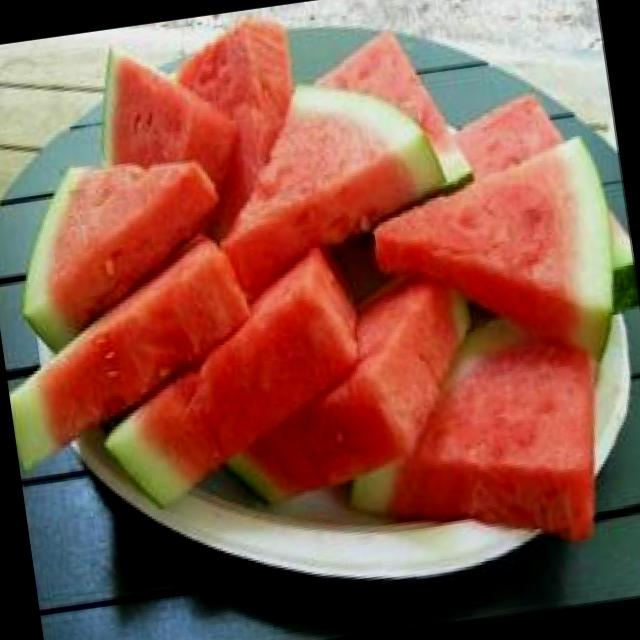dua hau: (109, 251, 356, 499), (345, 320, 593, 533), (374, 139, 615, 354), (239, 275, 468, 495), (11, 246, 244, 457), (227, 86, 442, 302), (23, 162, 217, 346), (103, 48, 233, 181)
